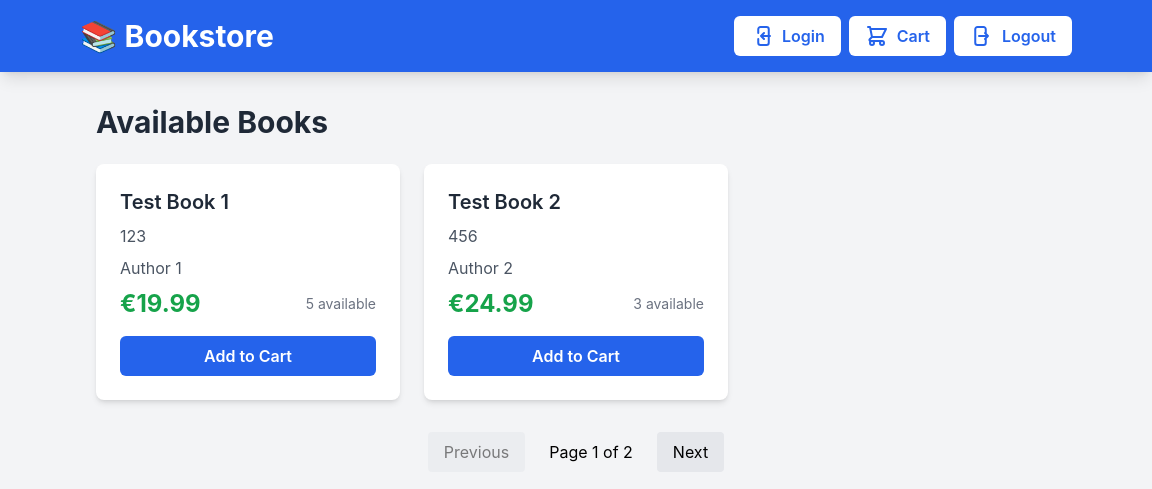
it: App Integration Tests › should navigate to cart view
Expected: the heading "Test Book 1" is shown, [120,190,229,214]
Click the button "Cart" at (897, 36), box [849,16,946,56]
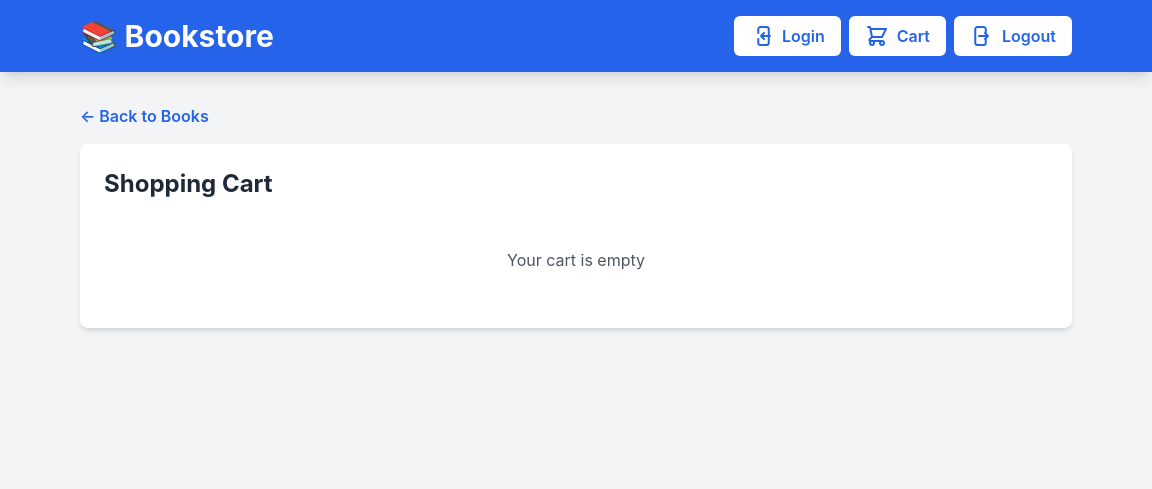
Expected: the heading "Shopping Cart" is shown, [104,169,273,198]
